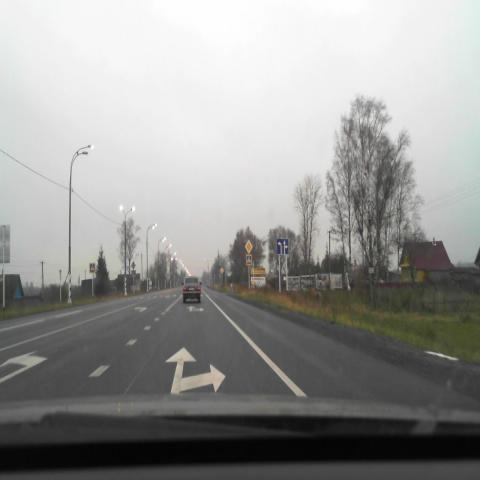5_15_2_2: (277, 238, 288, 254)
